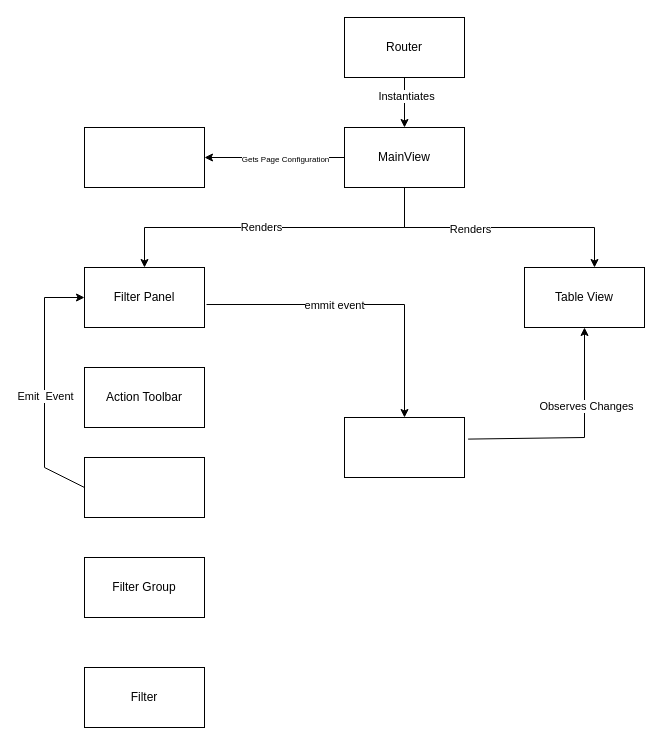
The diagram is 662 pixels wide and 745 high, and some of its shapes have lost their labels. The shapes that lost their labels are listed below. From the top down, each one's box as (x1, y1, x2, y2) in pixels, then its label:
(84, 126, 204, 188): AppConfigService
(344, 416, 464, 478): Table Data Service
(84, 456, 204, 518): Action Button
